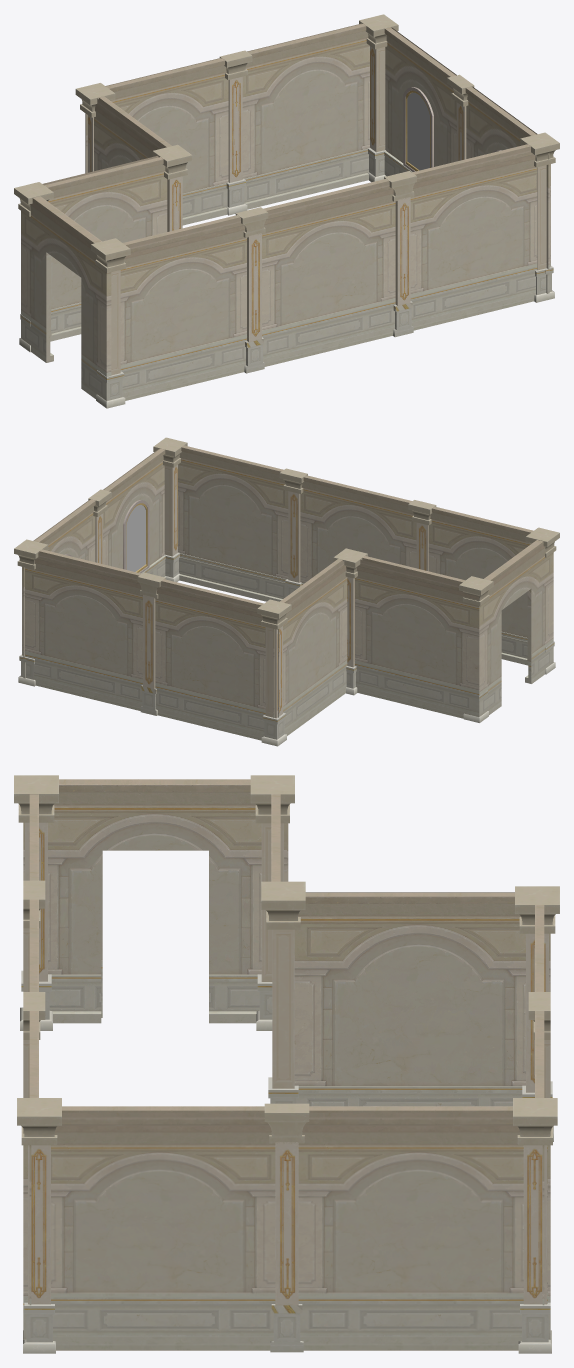
Rendered from Homeworld_Interior_Fd_Room_G_Wall_01_Vo.fbx.
3 views of the same model, one above another, from view 1: azimuth 30°, elevation 25°; view 2: azimuth 150°, elevation 25°; view 3: azimuth 270°, elevation 25° (orthographic). The views are drawn at different scales.
Parts seen in each view (by area): view 1: Homeworld_Interior_Fd_Room_G_Filling_01_Vo, Homeworld_Interior_Fd_Room_Wall_01_Vo (×7), Homeworld_Interior_Fd_Room_Pillar_01_Vo (×6), Homeworld_Interior_Fd_Room_Wall_02_Vo (×2), Homeworld_Interior_Fd_Room_Wall_06_Vo, Homeworld_Interior_Fd_Room_Pillar_02_Vo (×4); view 2: Homeworld_Interior_Fd_Room_G_Filling_01_Vo, Homeworld_Interior_Fd_Room_Wall_01_Vo (×7), Homeworld_Interior_Fd_Room_Pillar_01_Vo (×6), Homeworld_Interior_Fd_Room_Wall_02_Vo (×2), Homeworld_Interior_Fd_Room_Wall_06_Vo, Homeworld_Interior_Fd_Room_Pillar_02_Vo (×4); view 3: Homeworld_Interior_Fd_Room_G_Filling_01_Vo, Homeworld_Interior_Fd_Room_Wall_01_Vo (×7), Homeworld_Interior_Fd_Room_Wall_06_Vo, Homeworld_Interior_Fd_Room_Pillar_01_Vo (×6), Homeworld_Interior_Fd_Room_Pillar_02_Vo (×4), Homeworld_Interior_Fd_Room_Wall_02_Vo (×2).
Part boxes in pixels (<box>): Homeworld_Interior_Fd_Room_G_Filling_01_Vo: <box>42,23,537,400</box>; Homeworld_Interior_Fd_Room_Wall_01_Vo (×7): <box>44,24,550,341</box>; Homeworld_Interior_Fd_Room_Pillar_01_Vo (×6): <box>14,14,559,408</box>; Homeworld_Interior_Fd_Room_Wall_02_Vo (×2): <box>384,27,549,293</box>; Homeworld_Interior_Fd_Room_Wall_06_Vo: <box>21,196,111,400</box>; Homeworld_Interior_Fd_Room_Pillar_02_Vo (×4): <box>219,50,474,373</box>; Homeworld_Interior_Fd_Room_G_Filling_01_Vo: <box>22,449,531,740</box>; Homeworld_Interior_Fd_Room_Wall_01_Vo (×7): <box>22,445,533,718</box>; Homeworld_Interior_Fd_Room_Pillar_01_Vo (×6): <box>14,437,559,746</box>; Homeworld_Interior_Fd_Room_Wall_02_Vo (×2): <box>23,448,165,678</box>; Homeworld_Interior_Fd_Room_Wall_06_Vo: <box>479,540,553,716</box>; Homeworld_Interior_Fd_Room_Pillar_02_Vo (×4): <box>88,468,436,715</box>; Homeworld_Interior_Fd_Room_G_Filling_01_Vo: <box>51,823,547,1350</box>; Homeworld_Interior_Fd_Room_Wall_01_Vo (×7): <box>29,794,550,1305</box>; Homeworld_Interior_Fd_Room_Wall_06_Vo: <box>23,779,286,1023</box>; Homeworld_Interior_Fd_Room_Pillar_01_Vo (×6): <box>14,775,559,1353</box>; Homeworld_Interior_Fd_Room_Pillar_02_Vo (×4): <box>23,880,550,1352</box>; Homeworld_Interior_Fd_Room_Wall_02_Vo (×2): <box>23,1106,550,1339</box>.
Size of what is drawn, in the model's own units: 15.32 by 5.01 by 10.35.
